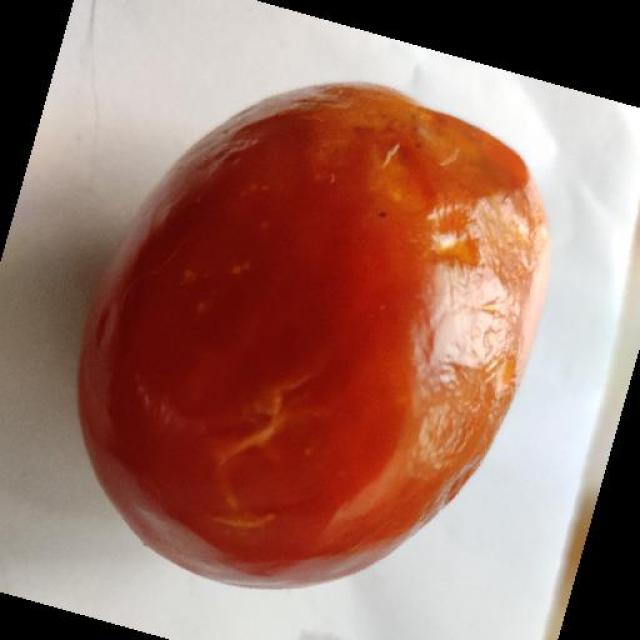Stale_tomato: (73, 74, 544, 555)
